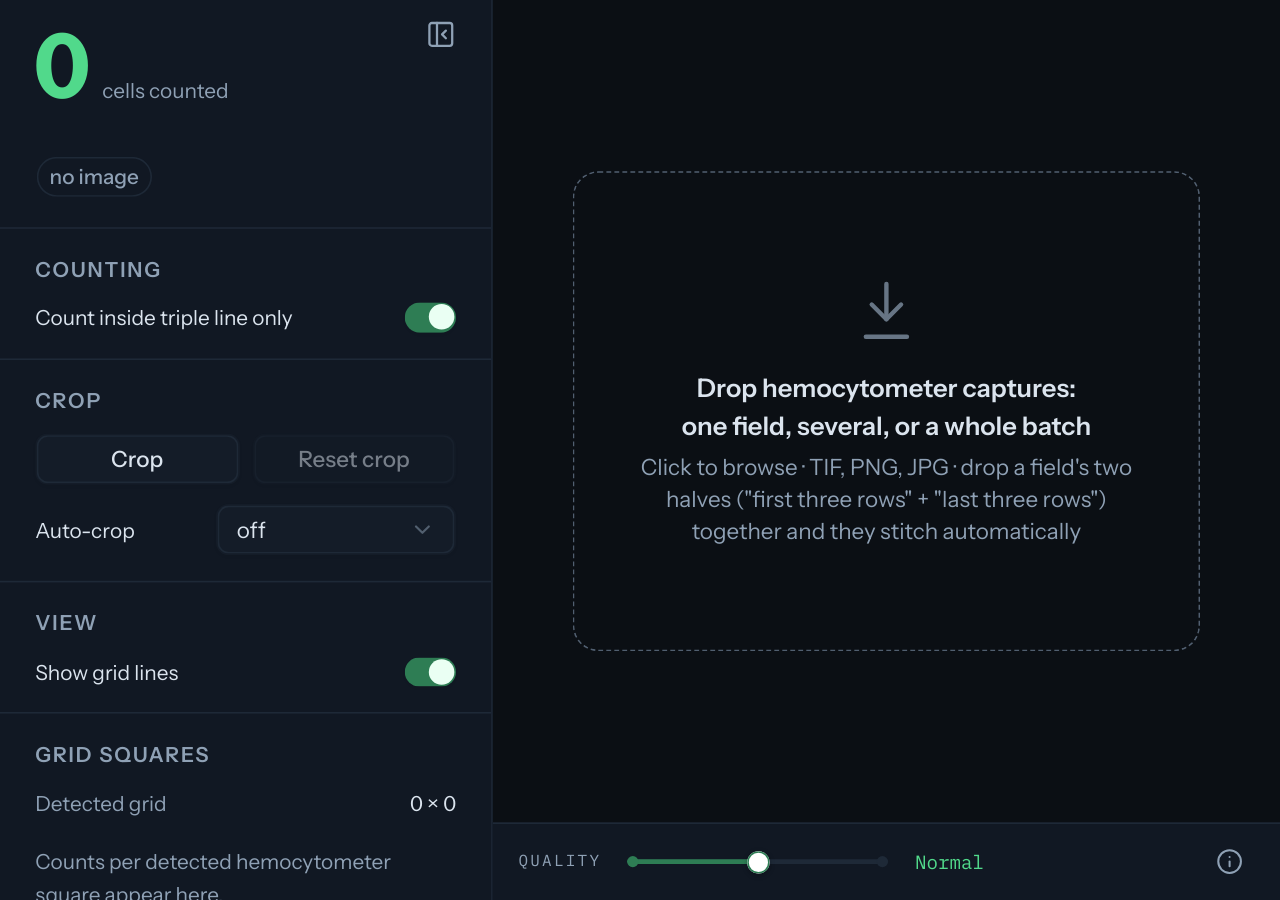
Test: renders the edit workbench with no tuning sliders left in it
Expected: the text "cells counted" is shown, 102,75 -> 229,105
Expected: the switch named "Show grid lines" in the row of "Show grid lines" is shown, 405,658 -> 456,687
Click the button named "Image properties".
click(1229, 862)  # box 1203,836 -> 1254,887
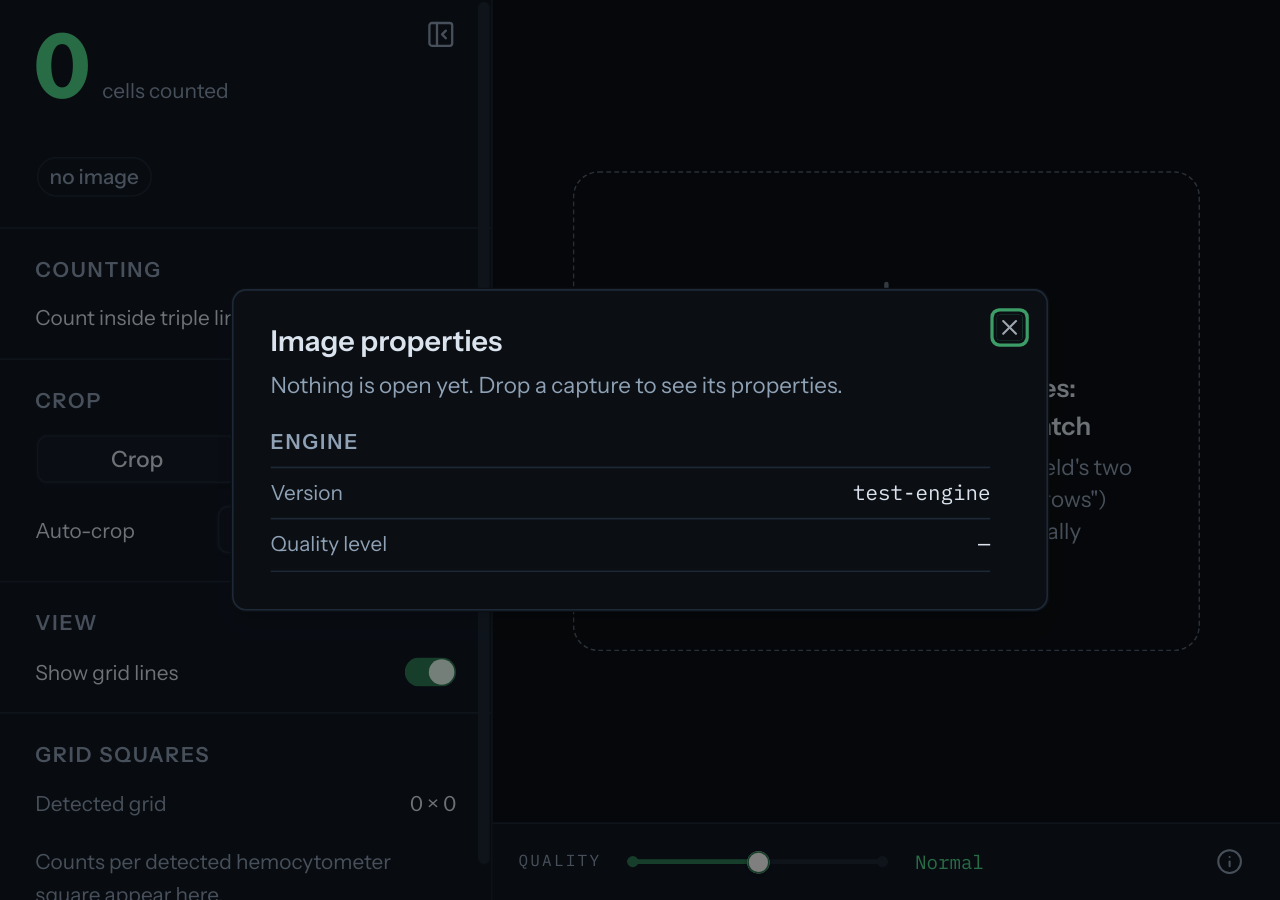
Expected: the text "test-engine" is shown, 853,479 -> 990,509
